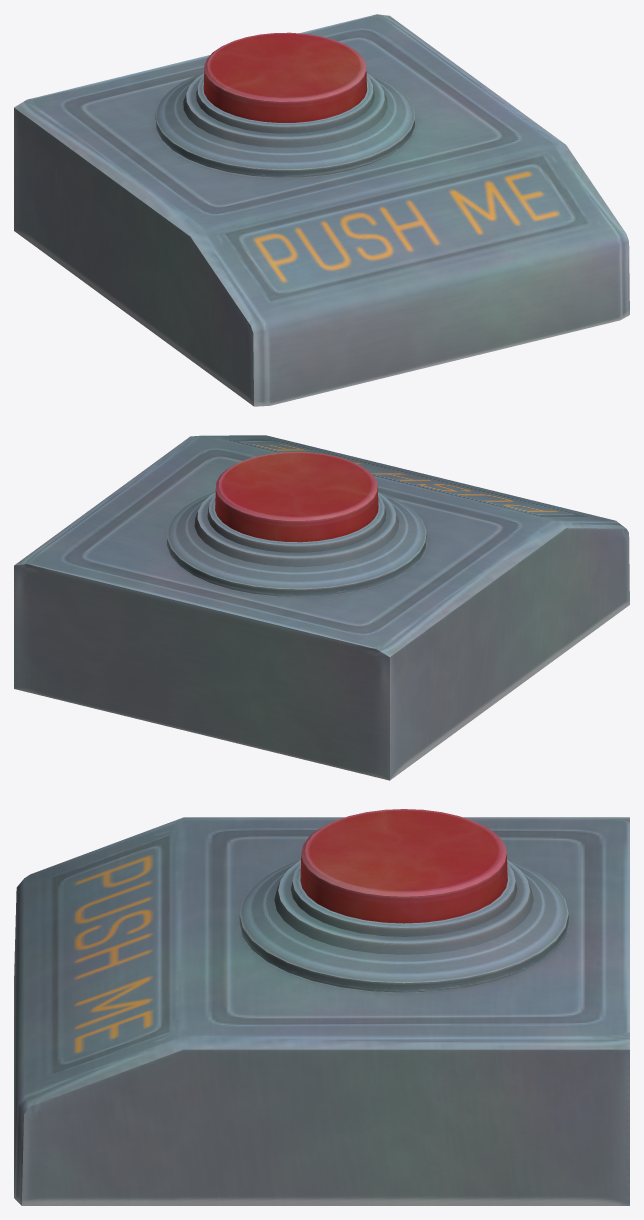
File: button.FBX
3 renders of one model, top to bottom at view 1: azimuth 30°, elevation 25°; view 2: azimuth 150°, elevation 25°; view 3: azimuth 270°, elevation 25°, orthographic. The views are drawn at different scales.
Parts seen in each view (by area): view 1: Cylinder002, Object001; view 2: Cylinder002, Object001; view 3: Cylinder002, Object001.
Boxes of the visible parts, <box> form: Cylinder002: <box>14,14,629,406</box>; Object001: <box>203,32,366,122</box>; Cylinder002: <box>14,435,629,780</box>; Object001: <box>215,452,378,542</box>; Cylinder002: <box>14,817,629,1205</box>; Object001: <box>300,809,507,923</box>.
Size of the model in its own units: 125 by 59.28 by 141.
